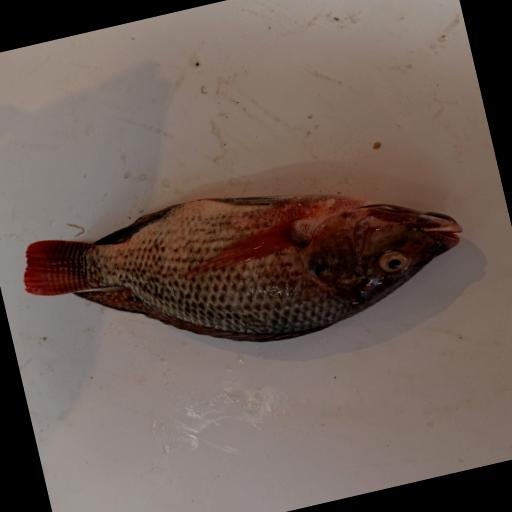Tilapia: (13, 142, 479, 394)
